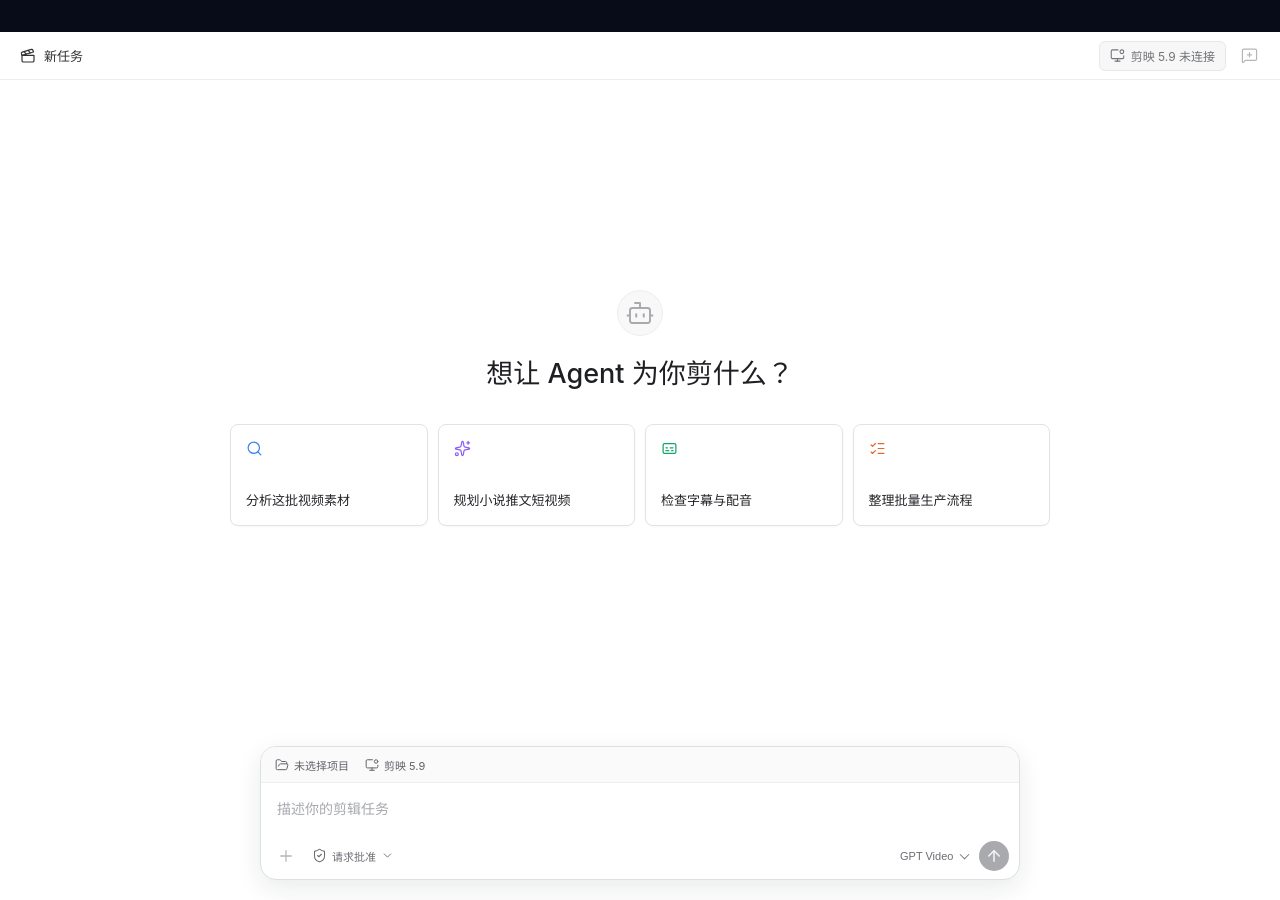
Test: AgentWorkspace › uses the lower-left control as a permission selector
Click the button with aria-label "权限控制：请求批准".
click(353, 856)  # box left=305, top=842, right=401, bottom=870
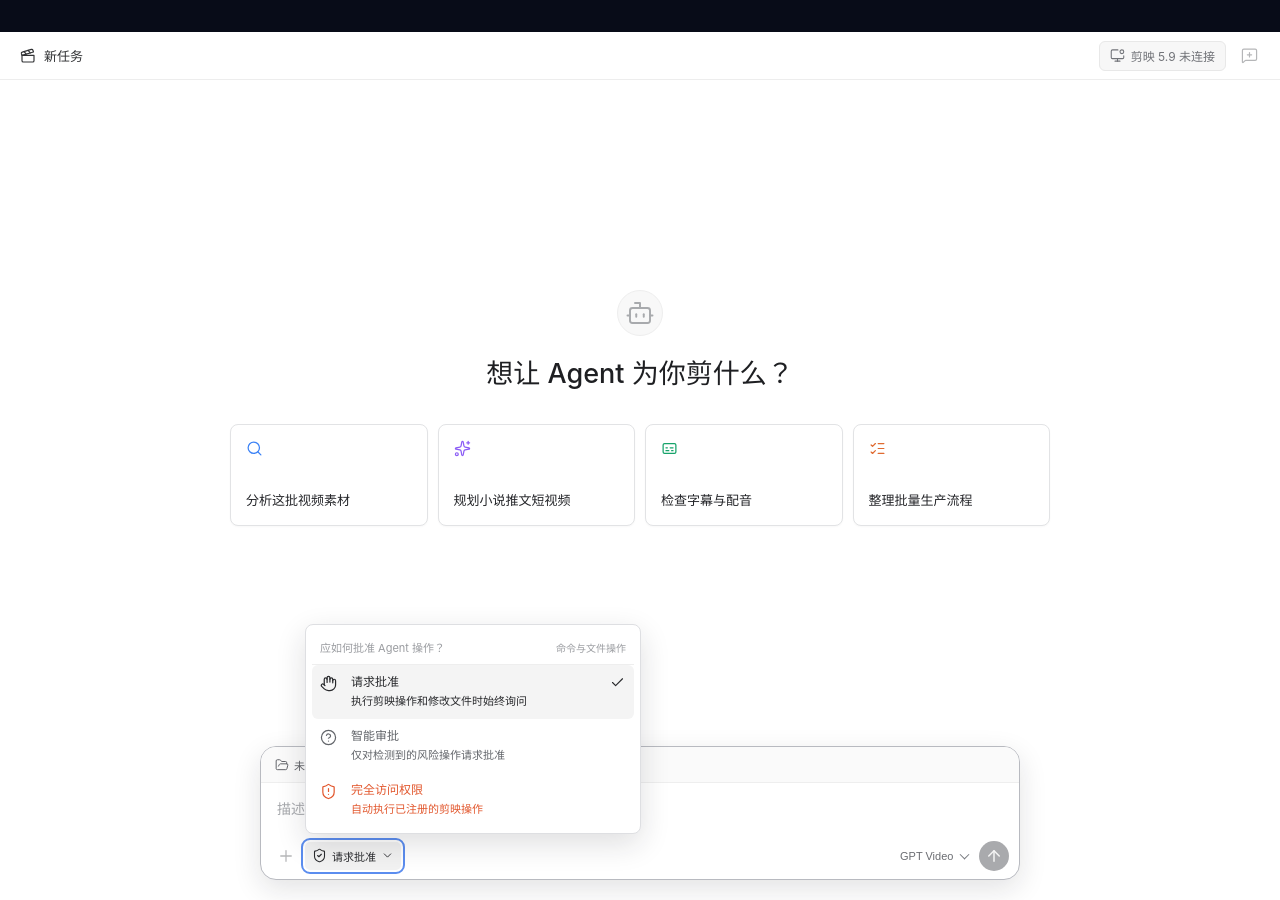
Click the menu item "完全访问权限 自动执行已注册的剪映操作".
click(473, 800)  # box left=312, top=772, right=634, bottom=826
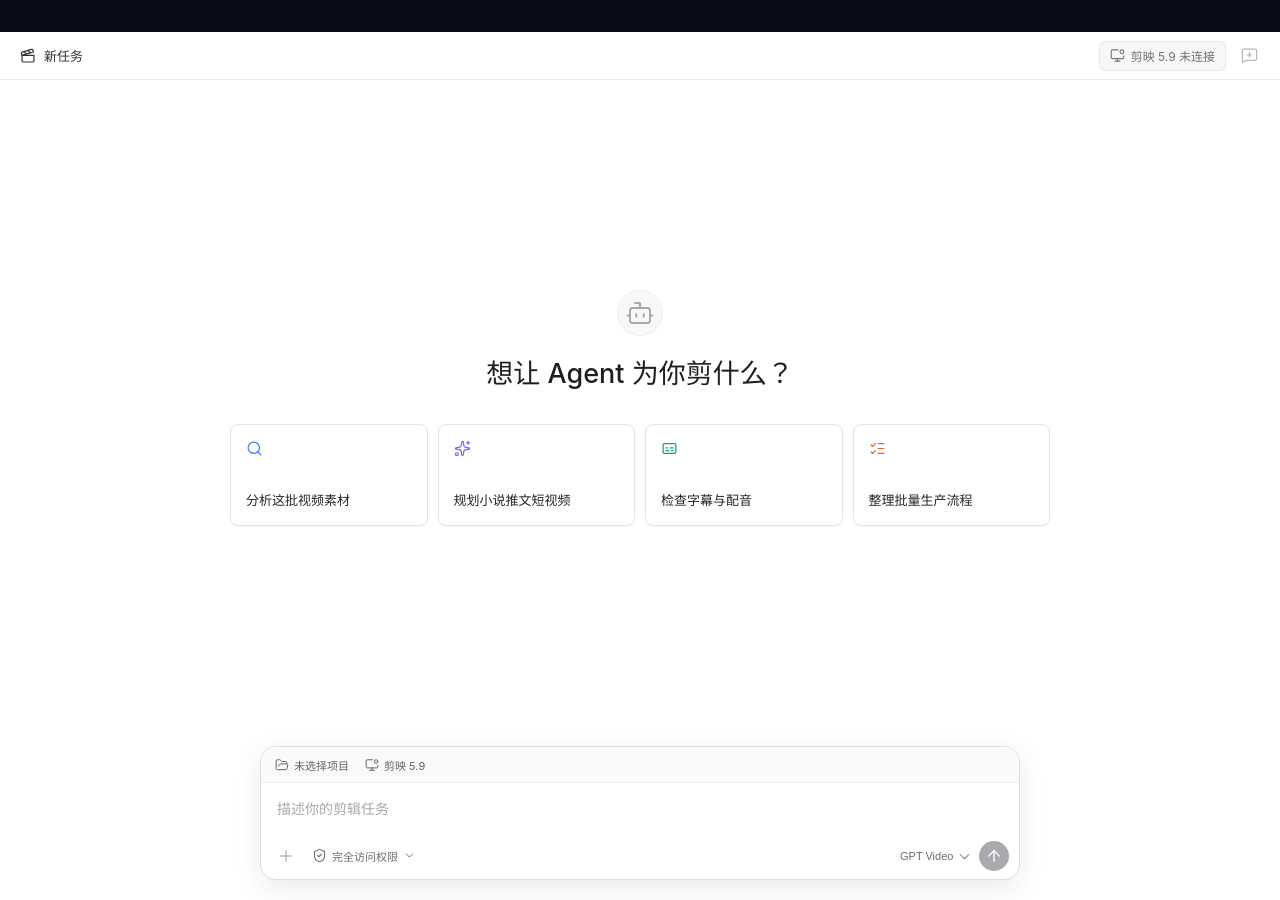
Now the button with aria-label "权限控制：完全访问权限" is shown, box left=305, top=842, right=423, bottom=870
